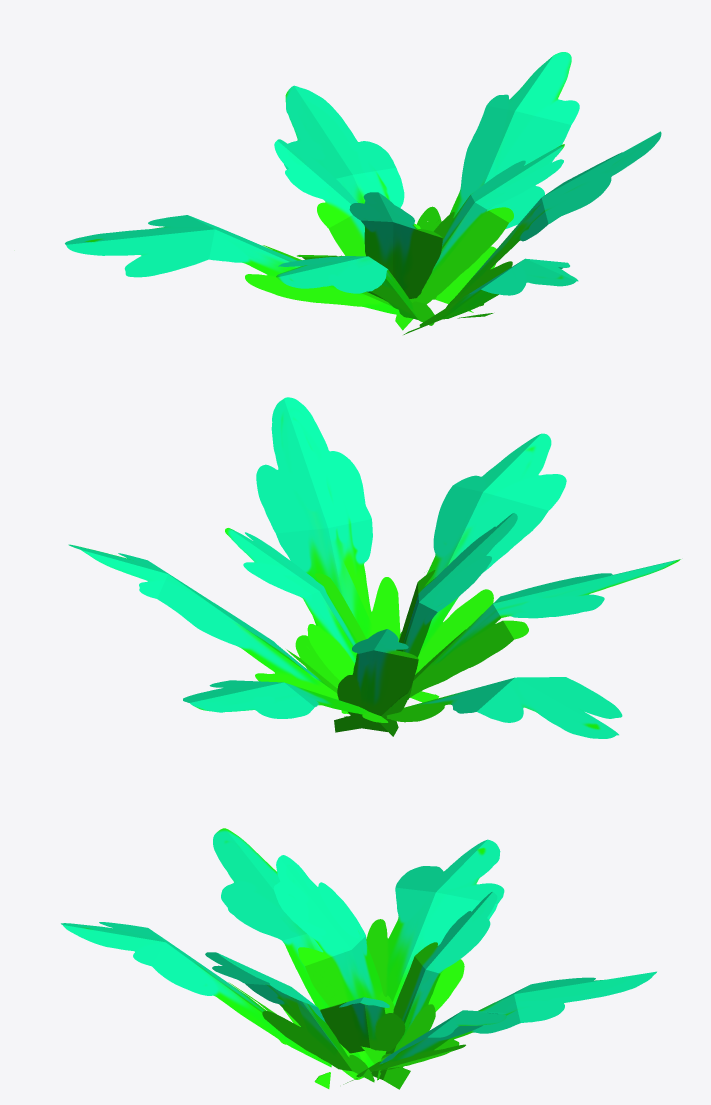
File: SmallPlant_LowPolyPlantsTextured - Copy.fbx
3 views of the same model, one above another, from view 1: azimuth 30°, elevation 25°; view 2: azimuth 150°, elevation 25°; view 3: azimuth 270°, elevation 25° (orthographic). The views are drawn at different scales.
Parts seen in each view (by area): view 1: Plane.000; view 2: Plane.000; view 3: Plane.000.
Part boxes in pixels (box(x1,y1,x2,y2)): Plane.000: box(65, 52, 661, 334); Plane.000: box(68, 397, 680, 738); Plane.000: box(61, 828, 656, 1089).
Size of the model in its own units: 62.75 by 22.79 by 62.78.
